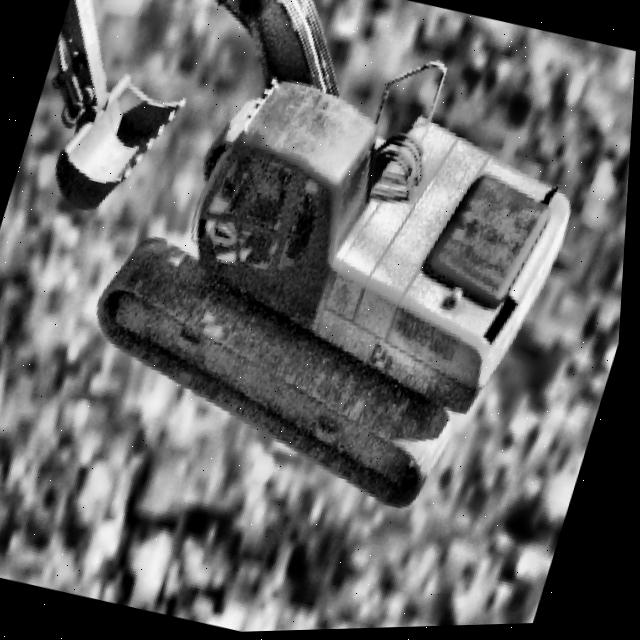excavator: (0, 0, 622, 536)
